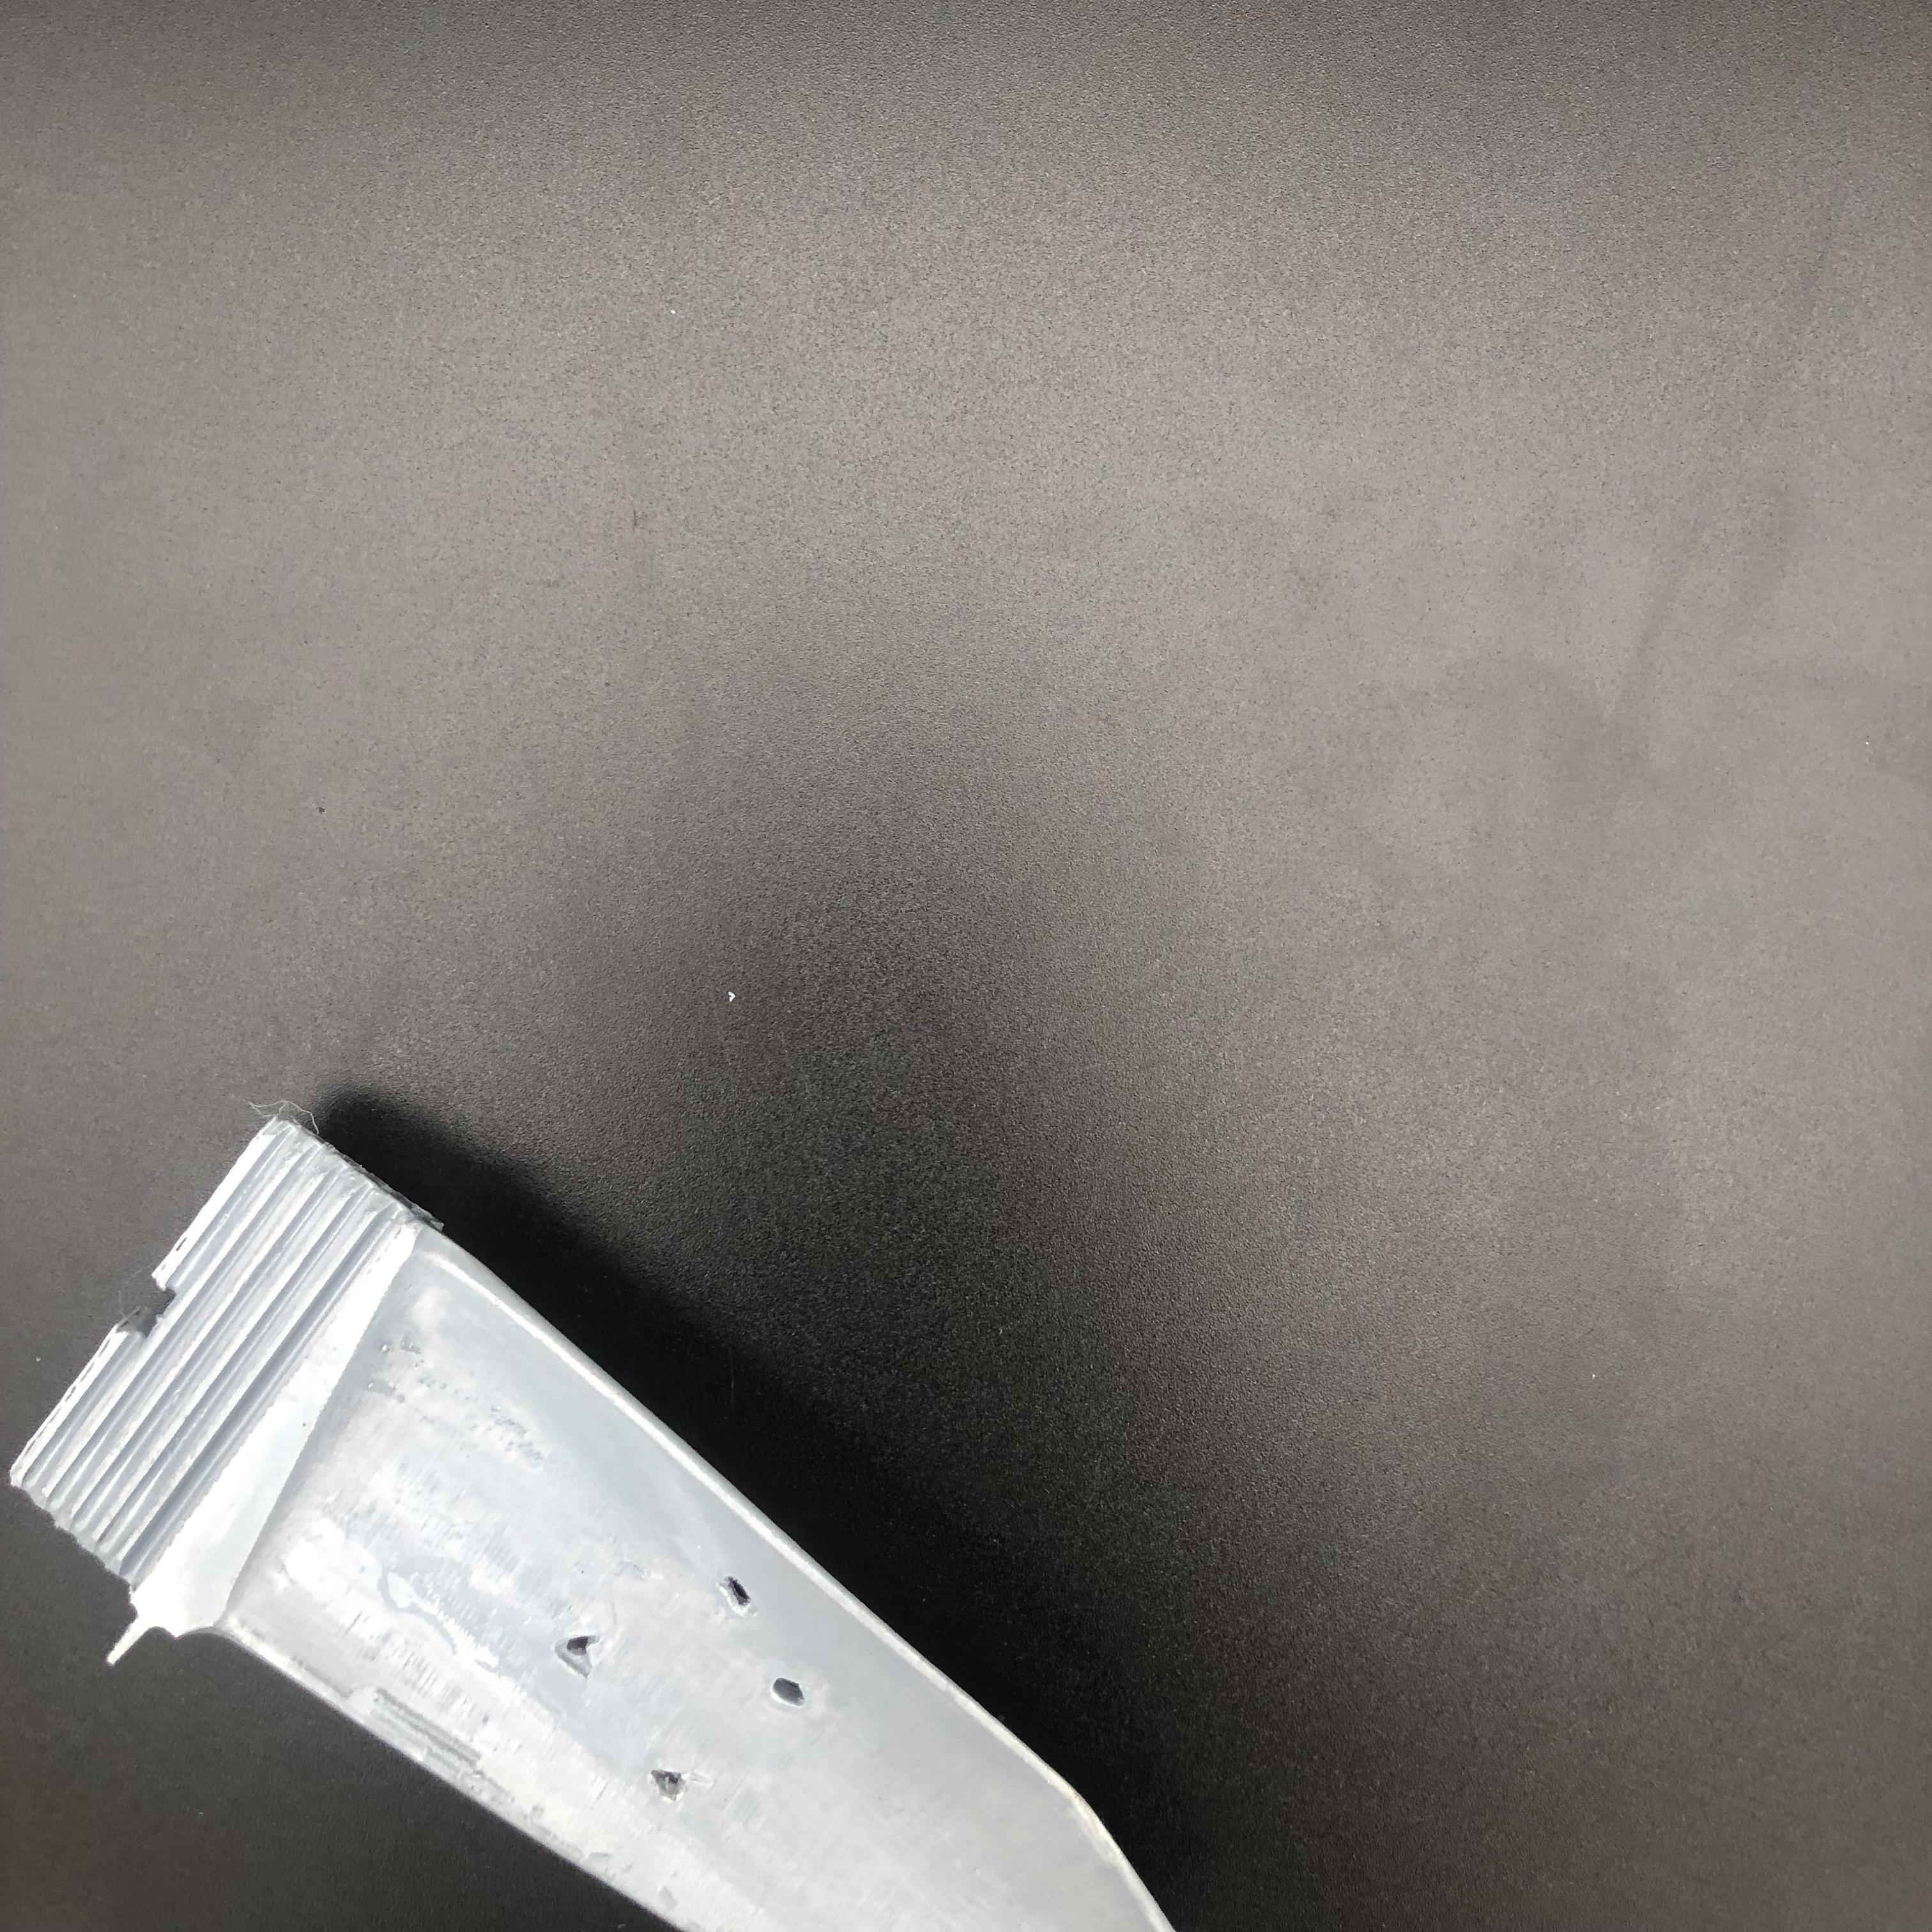breakdown: (566, 1568, 812, 1799)
